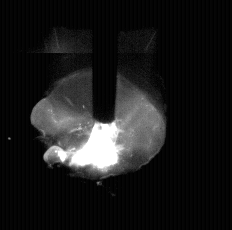arame: (93, 0, 118, 123)
poca: (30, 0, 165, 230)
